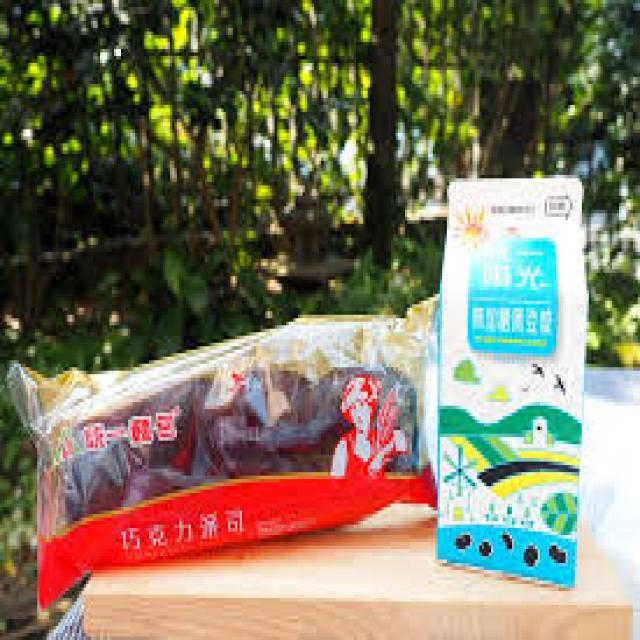TongYi_UnsweetenedBlackSoyMilk: (434, 178, 593, 596)
